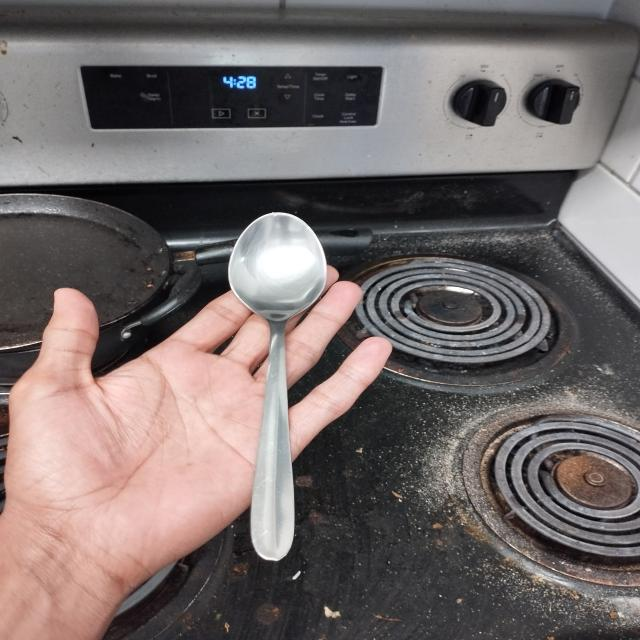Spoon: (221, 198, 338, 569)
